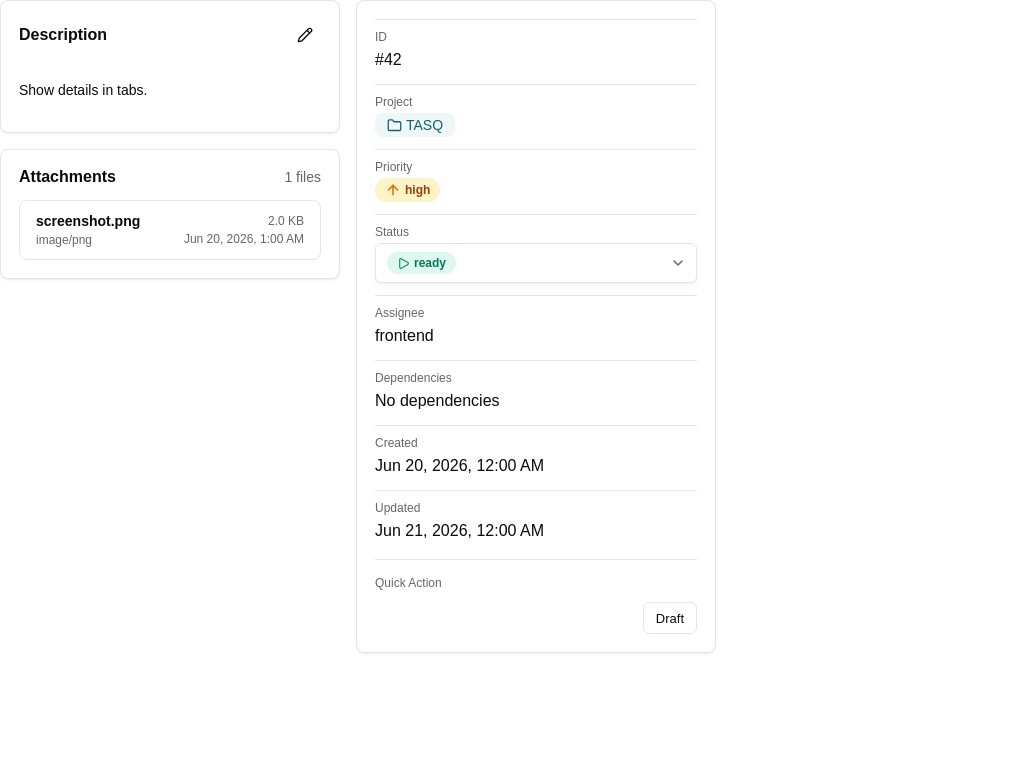
IssueDetailPage › updates status from the basic info grid
Click the button with aria-label "Change status". click: coordinates (422, 263)
box: [375, 243, 697, 283]
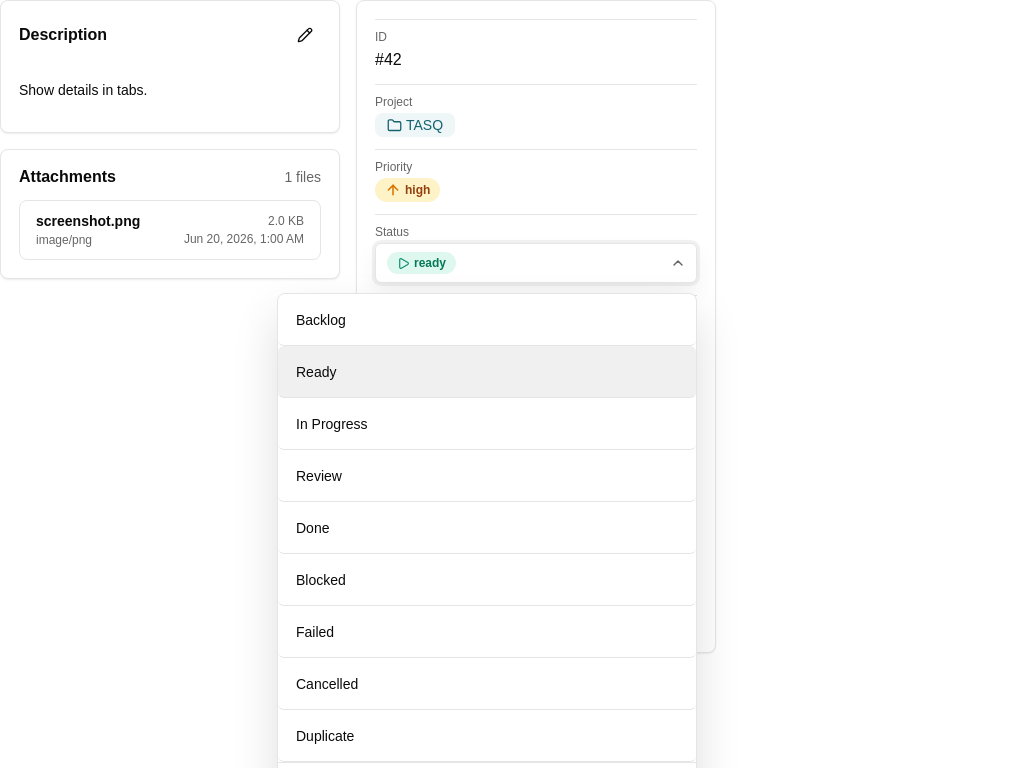
Click the button "In Progress". click: coordinates (332, 424)
box: [278, 398, 696, 450]
(page scrolled)
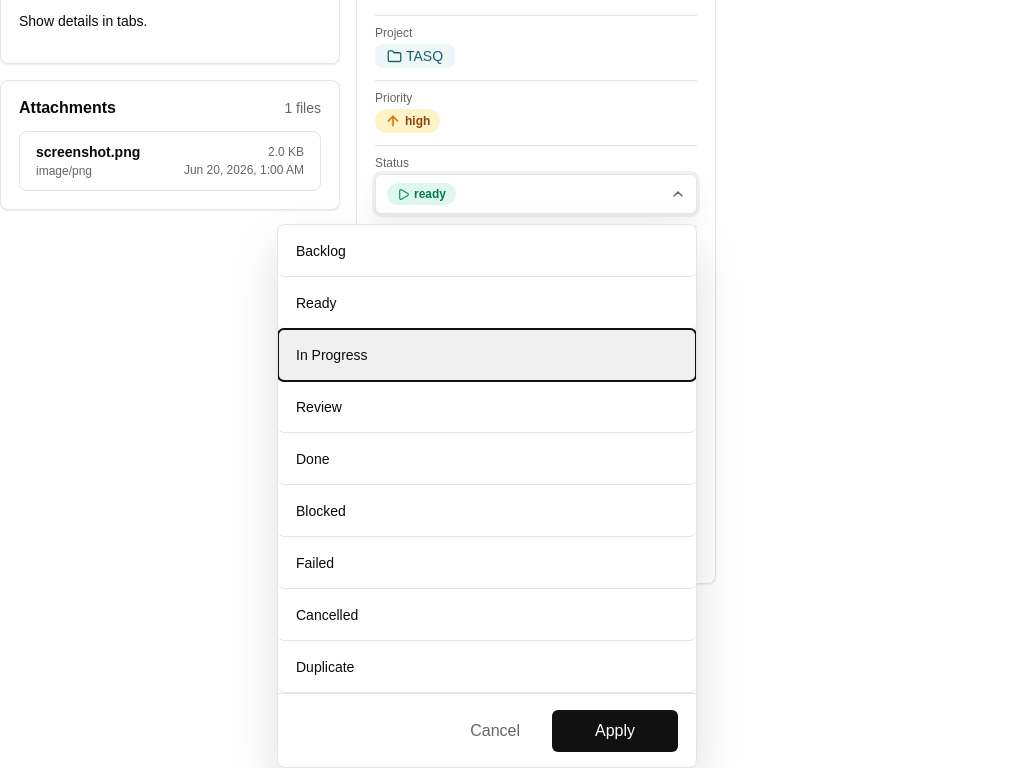
Click the button "Apply". click: coordinates (615, 730)
box: [552, 710, 678, 752]
(page scrolled)
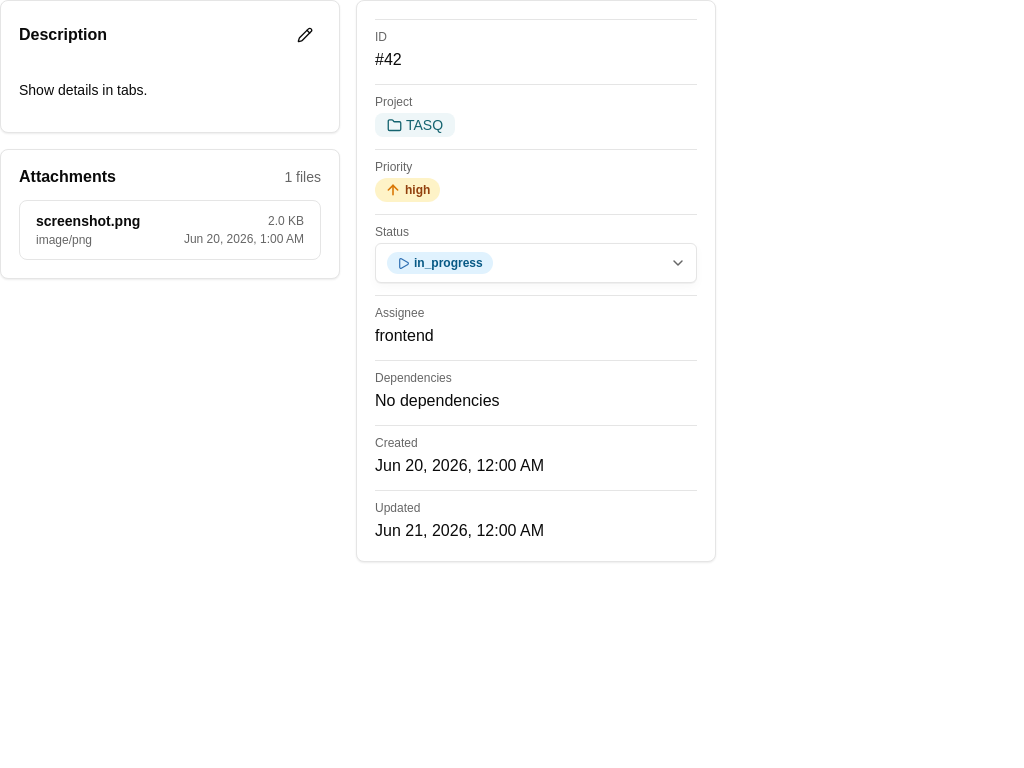
Result: the button with aria-label "Change status" reads "in_progress" at [375, 243, 697, 283]
